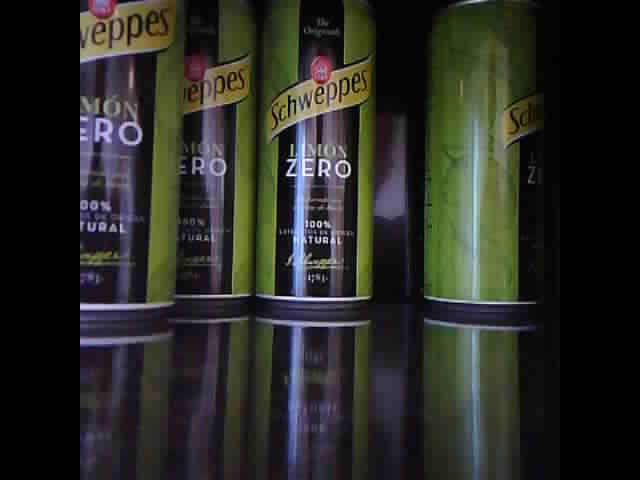schweppes: (252, 2, 375, 309), (426, 3, 534, 306), (80, 1, 179, 323), (173, 2, 255, 309)
